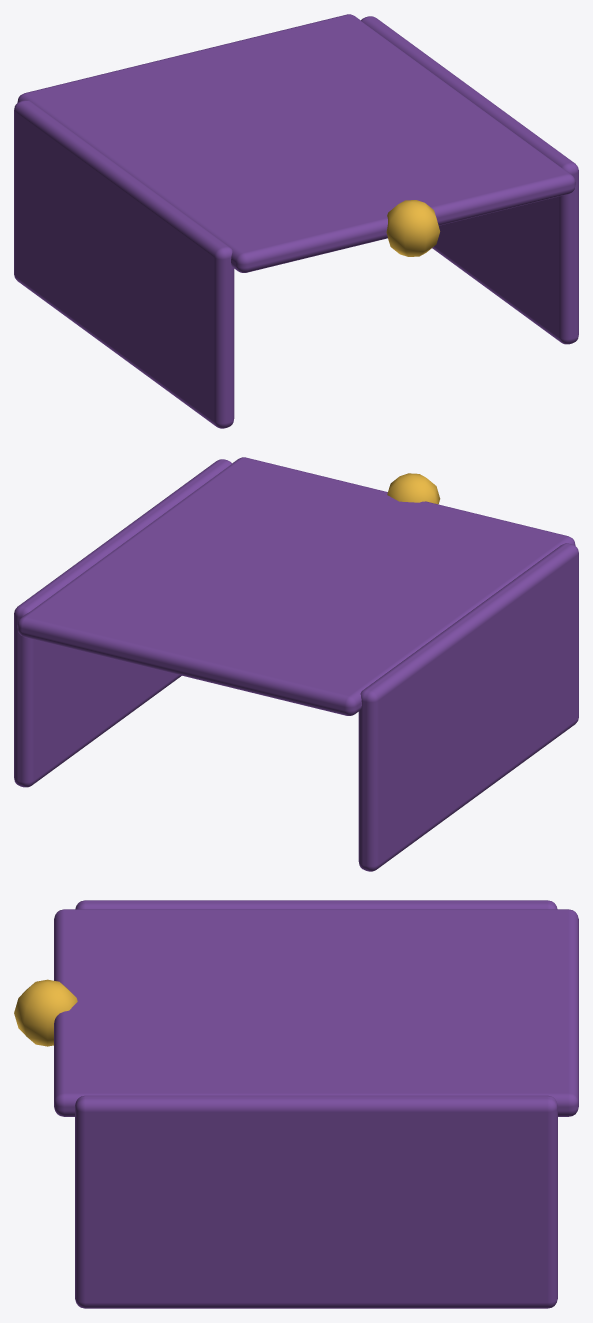
Rendered from acc-cape.glb.
3 renders of one model, top to bottom at view 1: azimuth 30°, elevation 25°; view 2: azimuth 150°, elevation 25°; view 3: azimuth 270°, elevation 25°, orthographic. The views are drawn at different scales.
Visible parts, largest first — view 1: acc-cape; view 2: acc-cape; view 3: acc-cape.
Boxes of the visible parts, x1=… form: acc-cape: x1=14, y1=14, x2=578, y2=428; acc-cape: x1=14, y1=457, x2=578, y2=871; acc-cape: x1=14, y1=900, x2=578, y2=1308.
Size of the model in its own units: 1.16 by 0.595 by 1.34.
